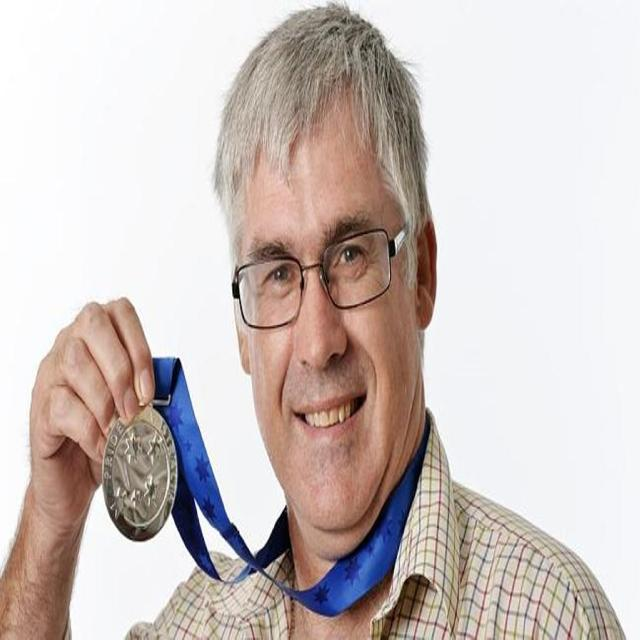Face: (236, 96, 433, 566)
